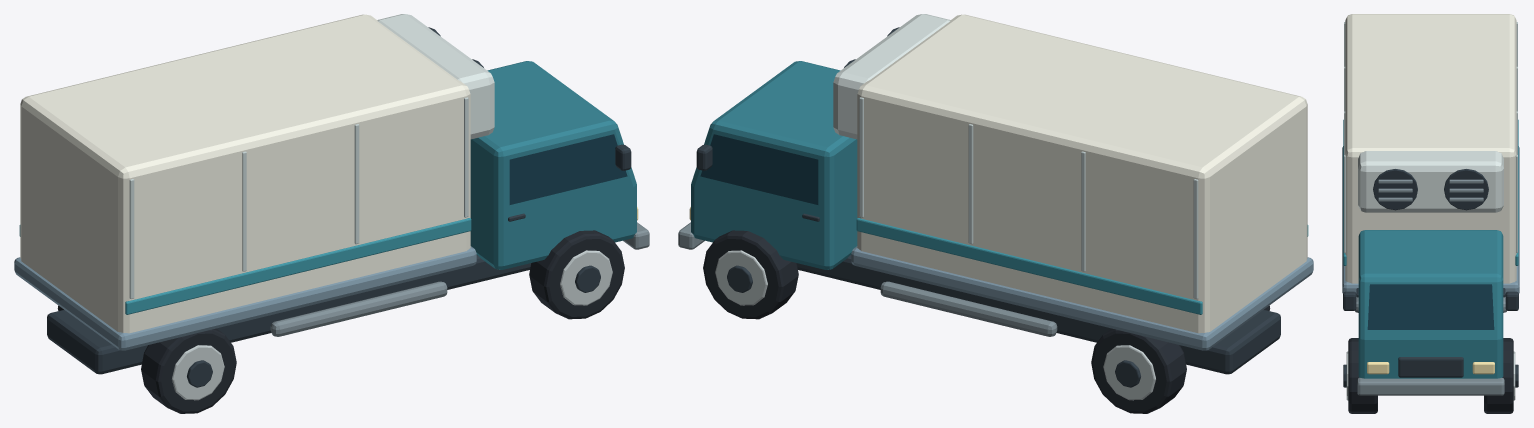
File: reefer-truck.glb
3 views of the same model, side by side, from view 1: azimuth 30°, elevation 25°; view 2: azimuth 150°, elevation 25°; view 3: azimuth 270°, elevation 25° (orthographic). The views are drawn at different scales.
Visible parts, largest first — view 1: reefer-truck; view 2: reefer-truck; view 3: reefer-truck.
Boxes of the visible parts, x1,y1,x2,y2 form: reefer-truck: (14,14,649,413); reefer-truck: (678,14,1313,413); reefer-truck: (1342,14,1519,413).
Size of the model in its own units: 3.4 by 1.59 by 1.19.
